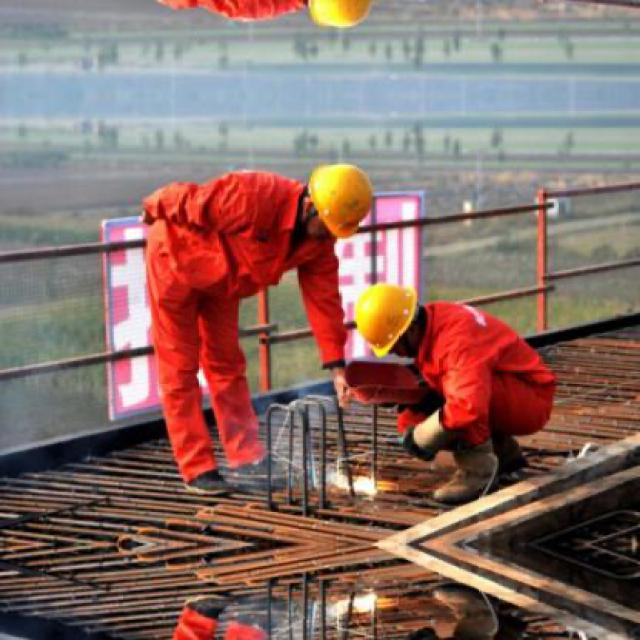helmet: (299, 157, 383, 241), (343, 274, 423, 358), (299, 0, 385, 35)
